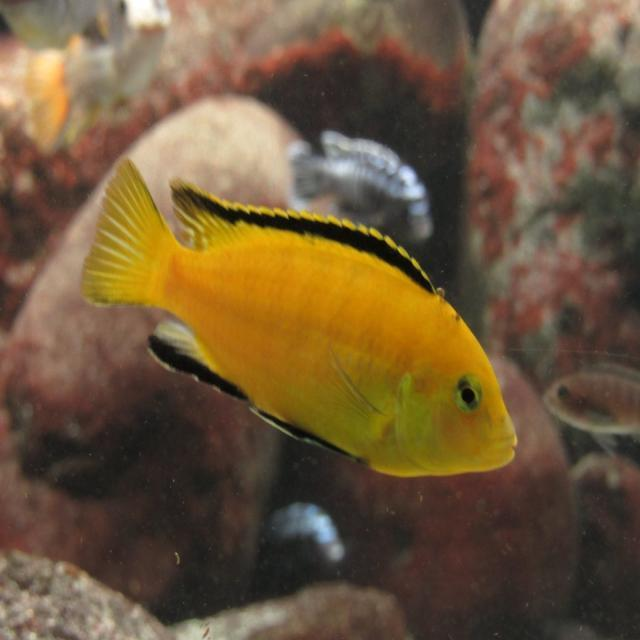YellowCichlid: (87, 170, 517, 478)
